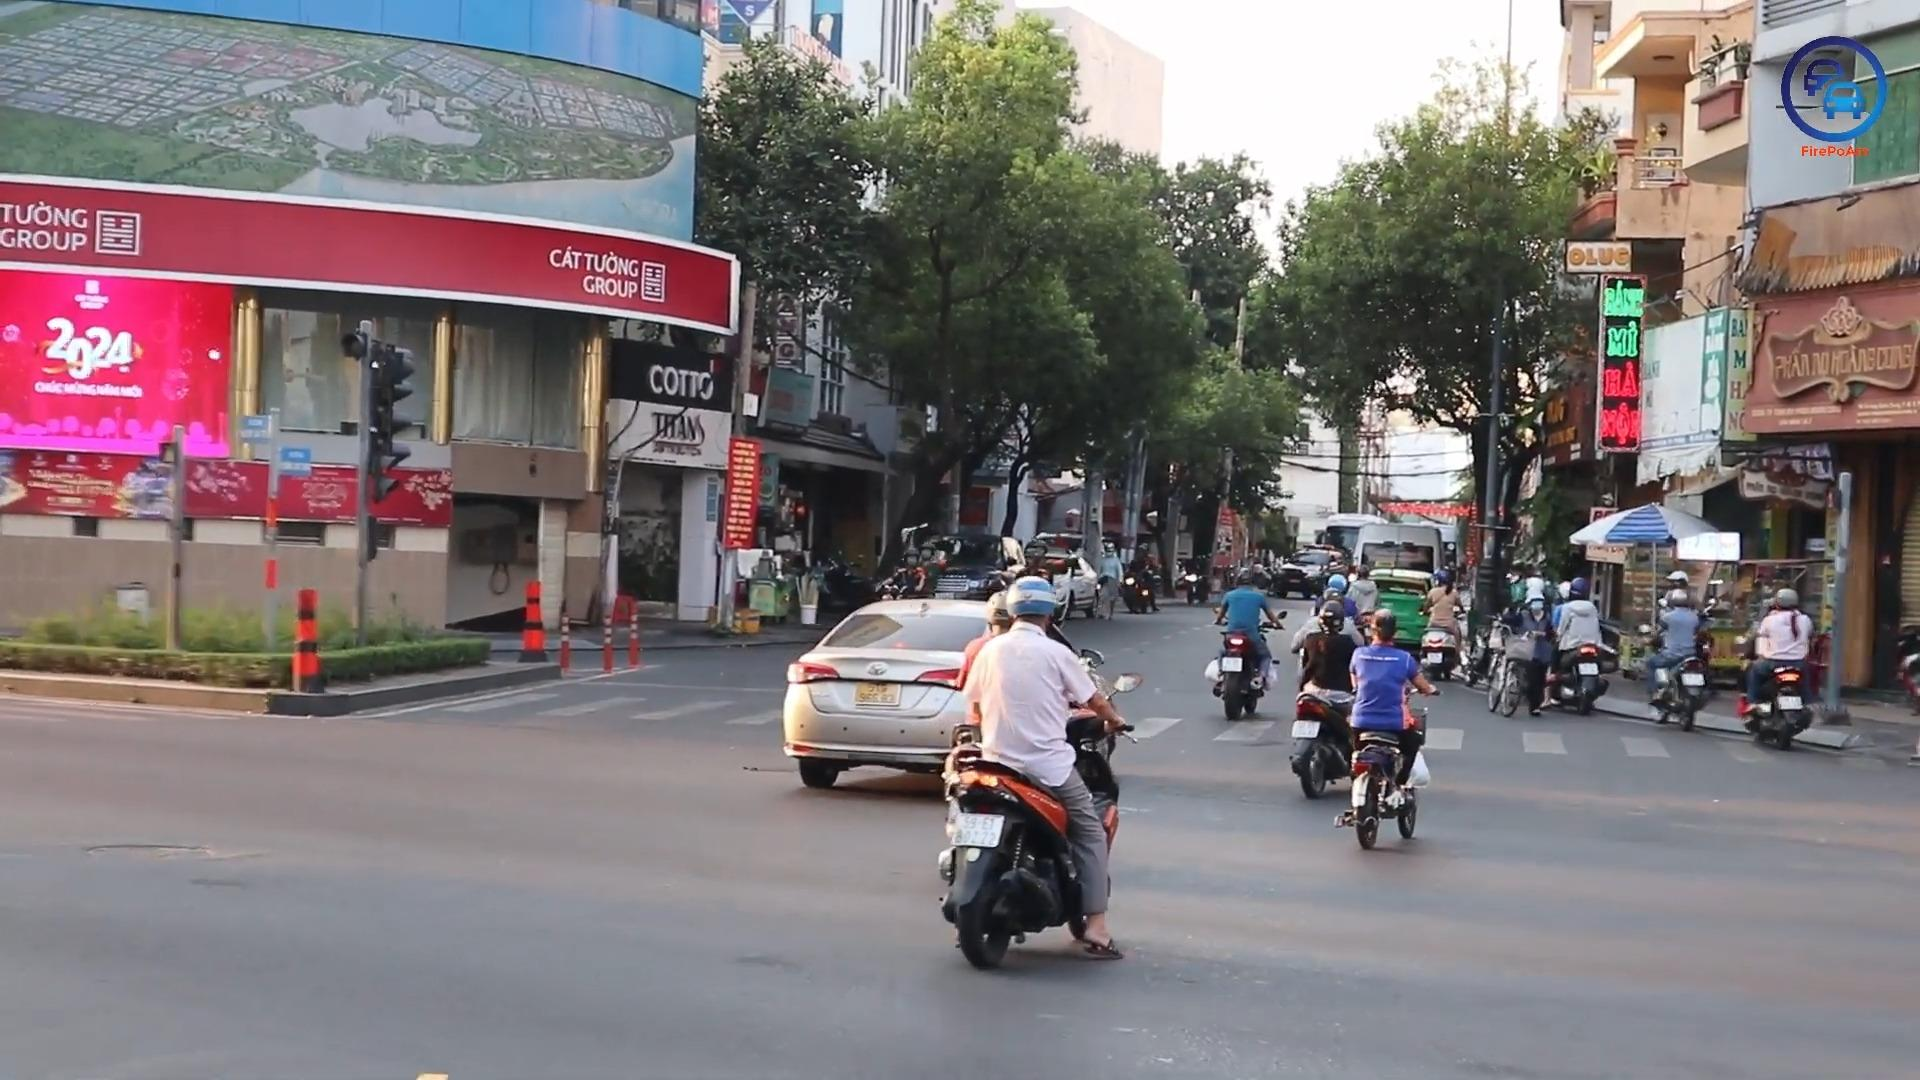bien_so: (950, 811, 1006, 849), (853, 680, 901, 707), (1290, 719, 1322, 739), (1776, 695, 1804, 712), (1220, 656, 1244, 674)
